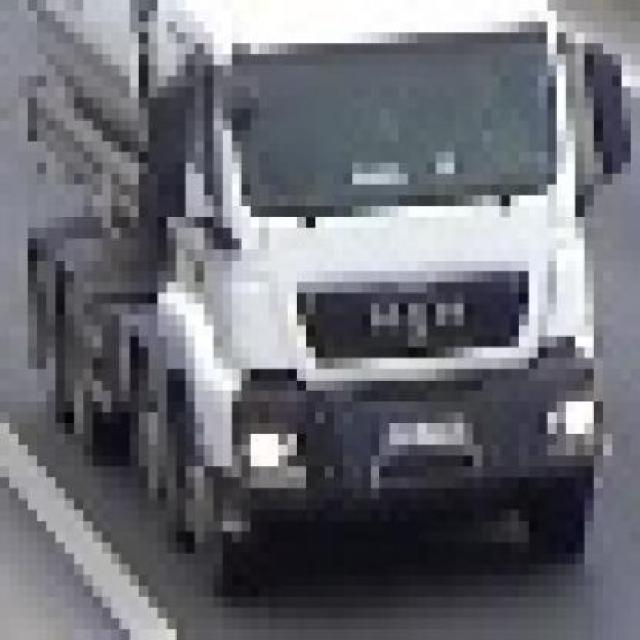truck: (29, 1, 632, 576)
